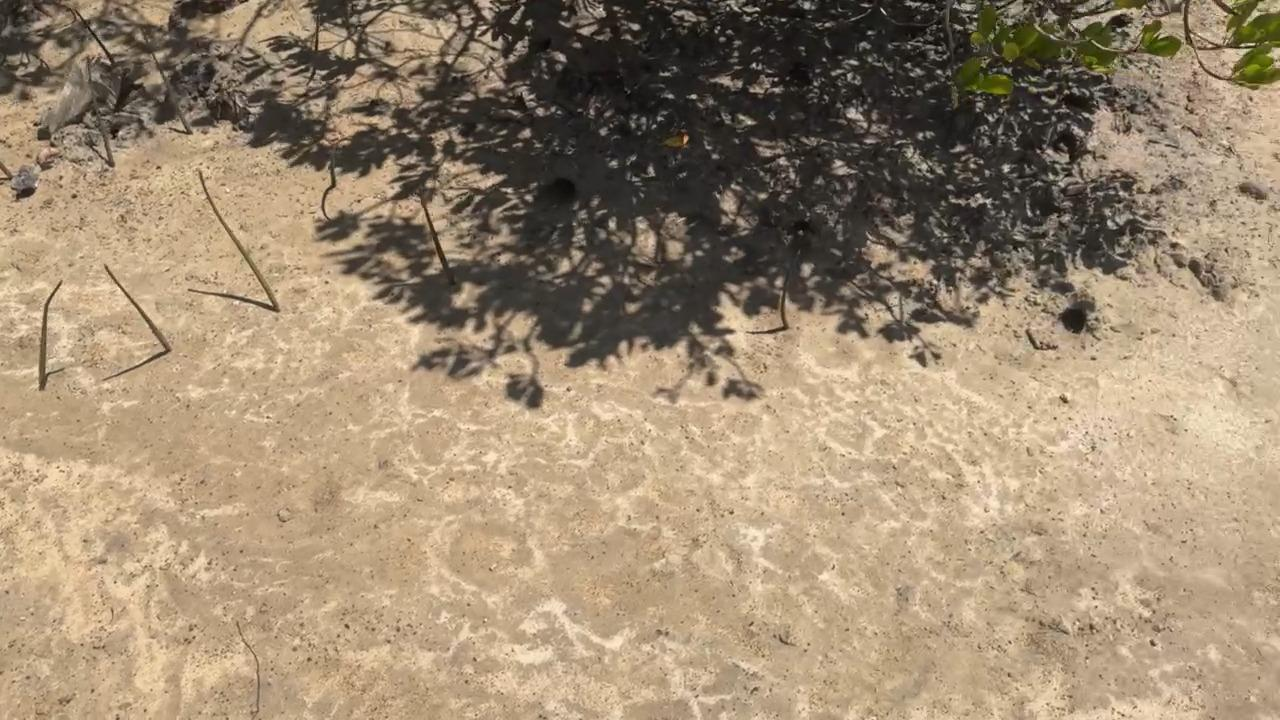Tree: (198, 169, 281, 312), (103, 263, 174, 353), (140, 25, 193, 136), (419, 191, 457, 288), (86, 57, 116, 168), (36, 279, 65, 381), (74, 5, 118, 69), (777, 256, 793, 330), (328, 149, 337, 188), (0, 156, 15, 179), (314, 9, 321, 53)
